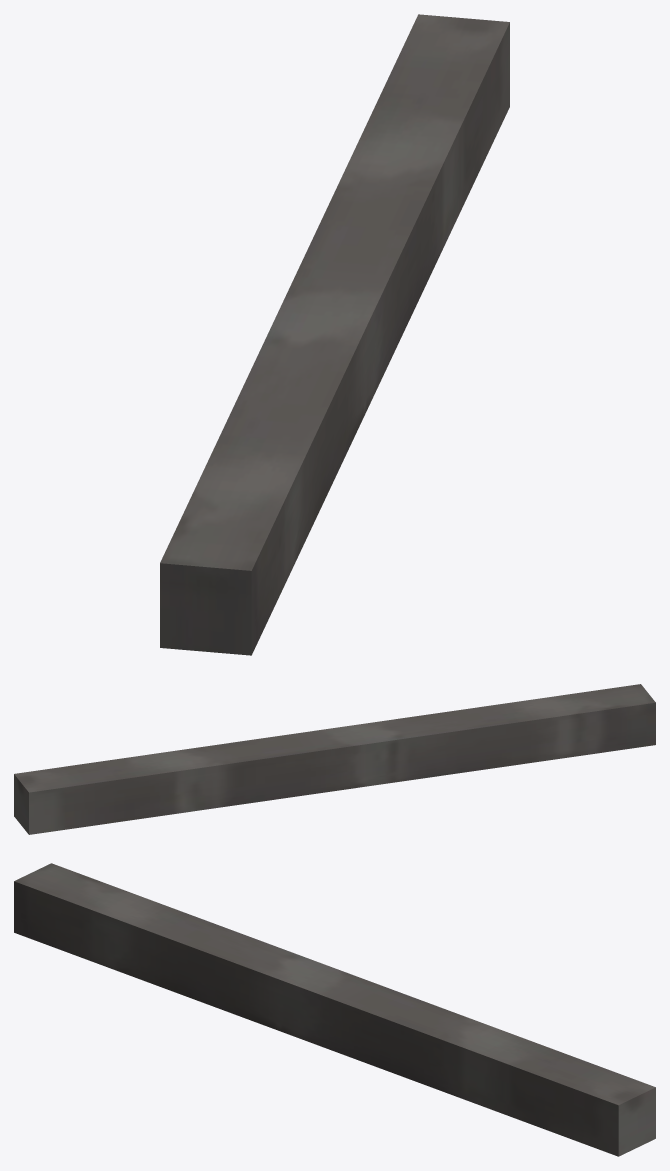
Rendered from support_ladder__ladder_side_rail_0.glb.
3 views of the same model, one above another, from view 1: azimuth 30°, elevation 25°; view 2: azimuth 150°, elevation 25°; view 3: azimuth 270°, elevation 25° (orthographic). The views are drawn at different scales.
Parts seen in each view (by area): view 1: world; view 2: world; view 3: world.
Boxes of the visible parts, x1,y1,x2,y2 form: world: (160, 14, 509, 655); world: (14, 684, 655, 834); world: (14, 863, 655, 1156).
Size of the model in its own units: 0.3028 by 0.03 by 0.3393.
1 material, 1 textured.
